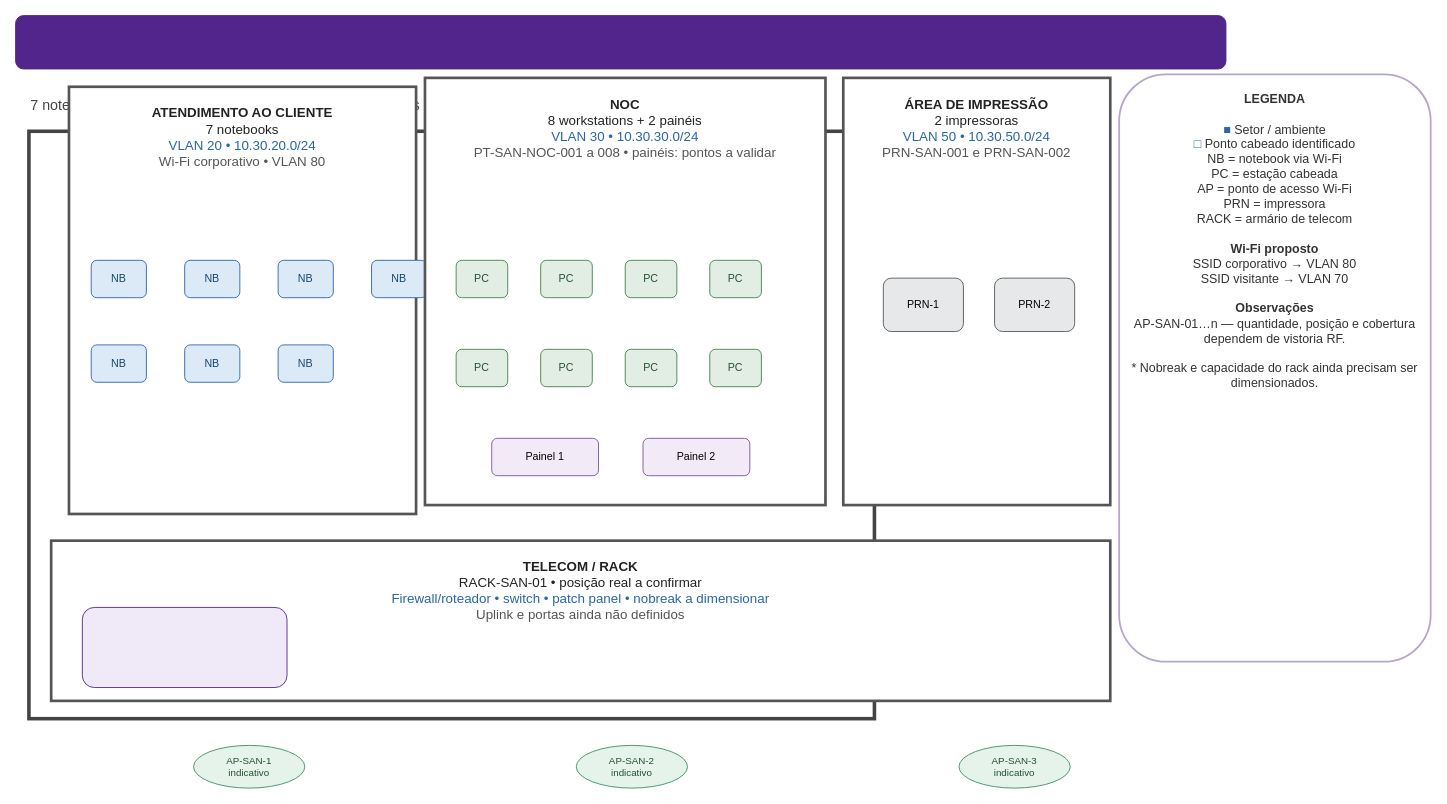
Image size: 1447x804. Some labels were removed from this diagram. Here are the shapes that lost their labels. From the top down, the box of each, then its label:
(15, 15, 1226, 69): ETAPA 1 — PLANTA DE REDE | FILIAL SANTOS
(81, 607, 287, 688): RACK Firewall / Router Switch Patch panel Nobreak*
